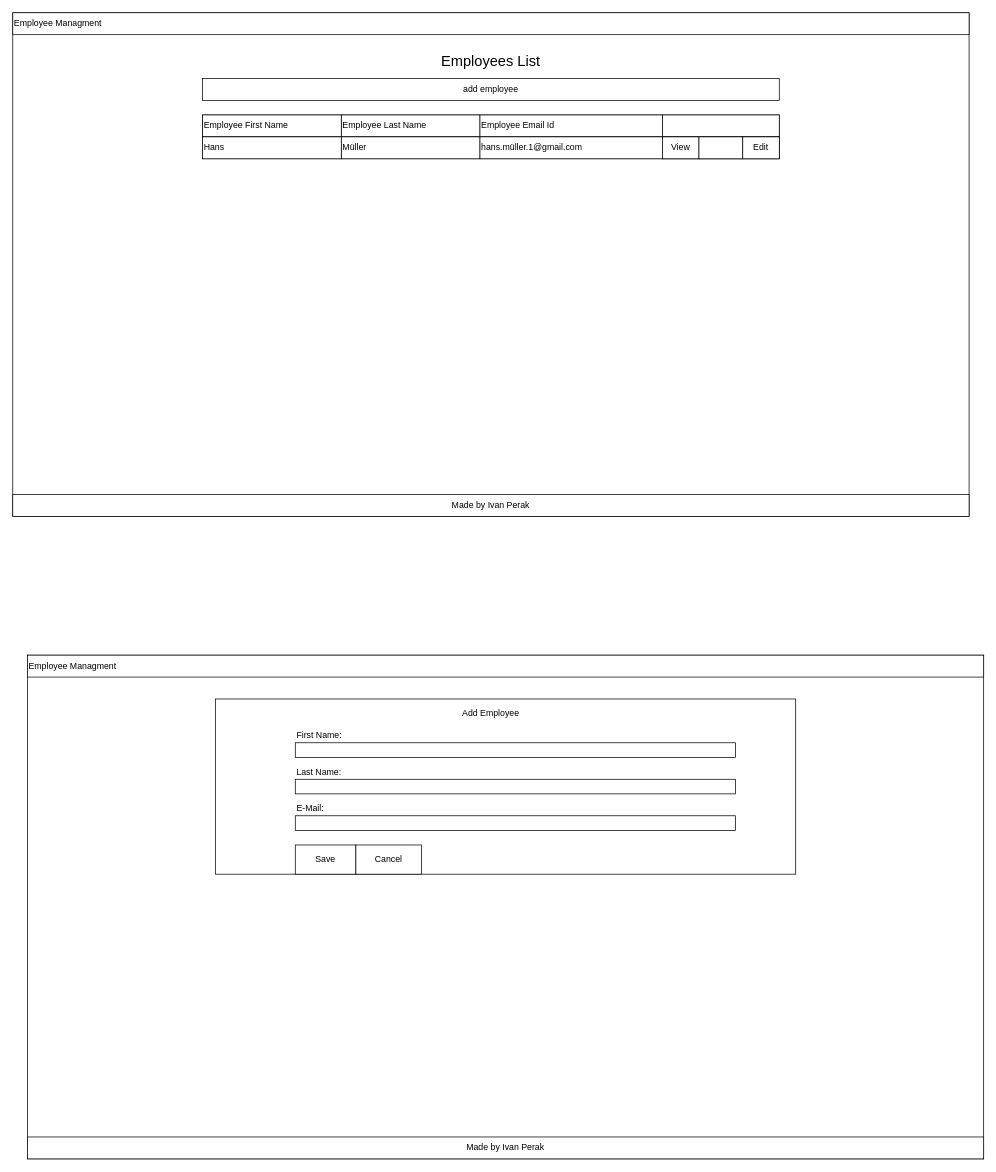
This 996x1172 diagram has some shape labels left out. Here are the shapes that lost their labels. From the top down, the box of each, then its label:
(662, 114, 779, 137): Actions
(698, 136, 743, 159): Delet
